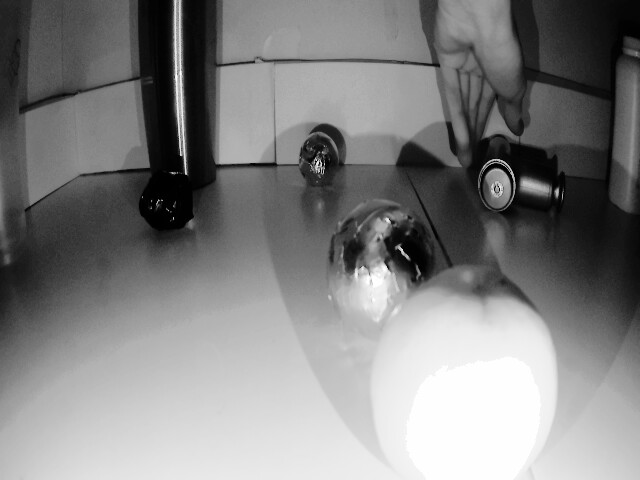black: (135, 164, 197, 231)
silver: (327, 196, 437, 350), (297, 128, 337, 189)
